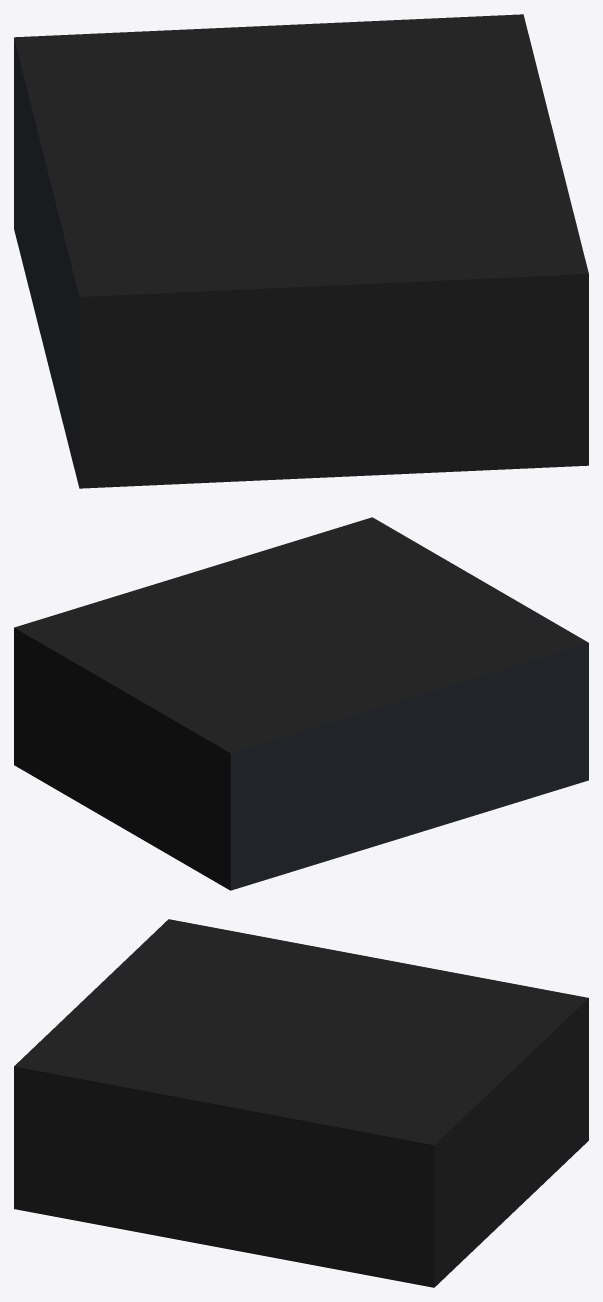
File: storefront-in-chattanooga-tn-usa.glb
3 views of the same model, one above another, from view 1: azimuth 30°, elevation 25°; view 2: azimuth 150°, elevation 25°; view 3: azimuth 270°, elevation 25° (orthographic). The views are drawn at different scales.
Parts seen in each view (by area): view 1: LOD0; view 2: LOD0; view 3: LOD0.
Boxes of the visible parts, <box> form: LOD0: <box>14,14,588,488</box>; LOD0: <box>14,517,588,890</box>; LOD0: <box>14,919,588,1287</box>.
Size of what is drawn, in the model's own units: 21.35 by 6.28 by 22.94.
1 material, 1 textured.
